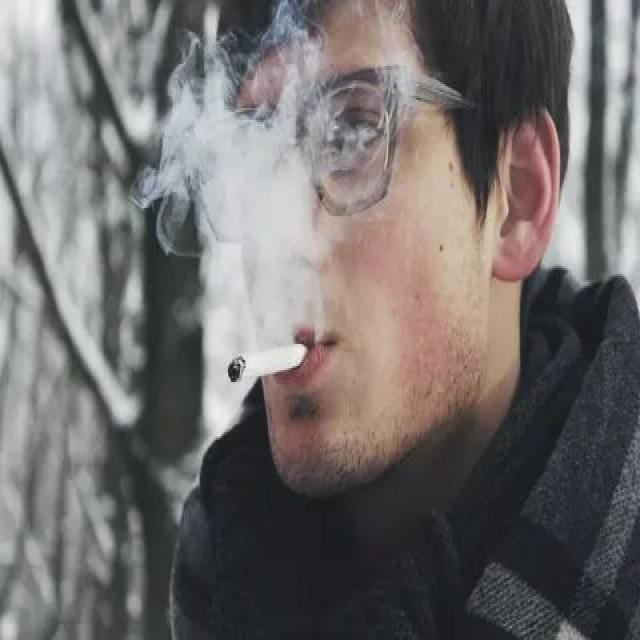smoke: (223, 338, 309, 392)
